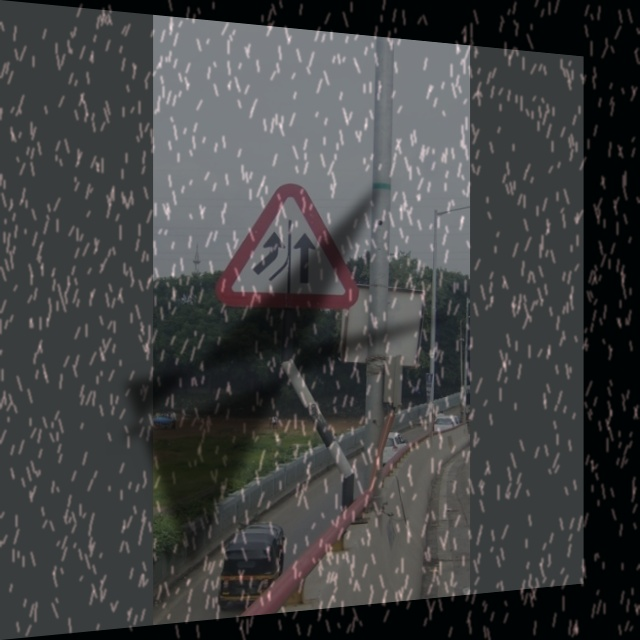Merge_Traffic_Ahead: (216, 174, 362, 318)
